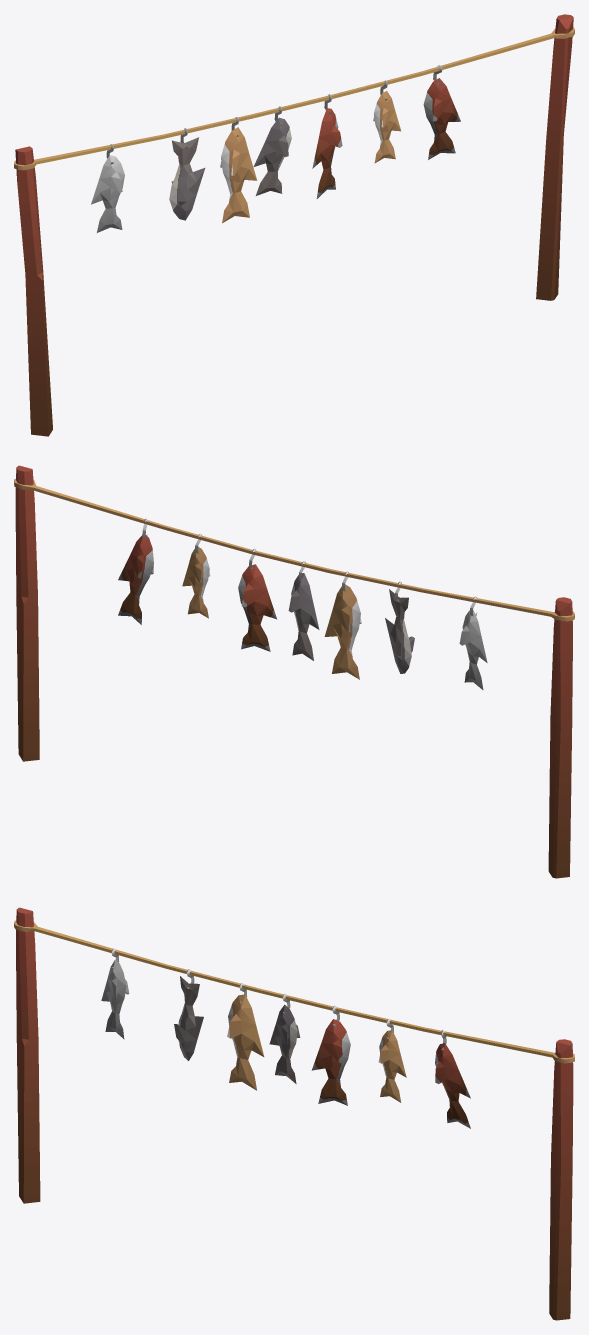
3 renders of one model, top to bottom at view 1: azimuth 30°, elevation 25°; view 2: azimuth 150°, elevation 25°; view 3: azimuth 330°, elevation 25°, orthographic.
Parts seen in each view (by area): view 1: DriedFish; view 2: DriedFish; view 3: DriedFish.
Part boxes in pixels (x1,y1,x2,y2): DriedFish: (14, 14, 574, 436); DriedFish: (14, 465, 574, 878); DriedFish: (14, 907, 574, 1320).
Bounding box in the file's own units: 5.35 × 2.57 × 0.4146.
1 material, 1 textured.
